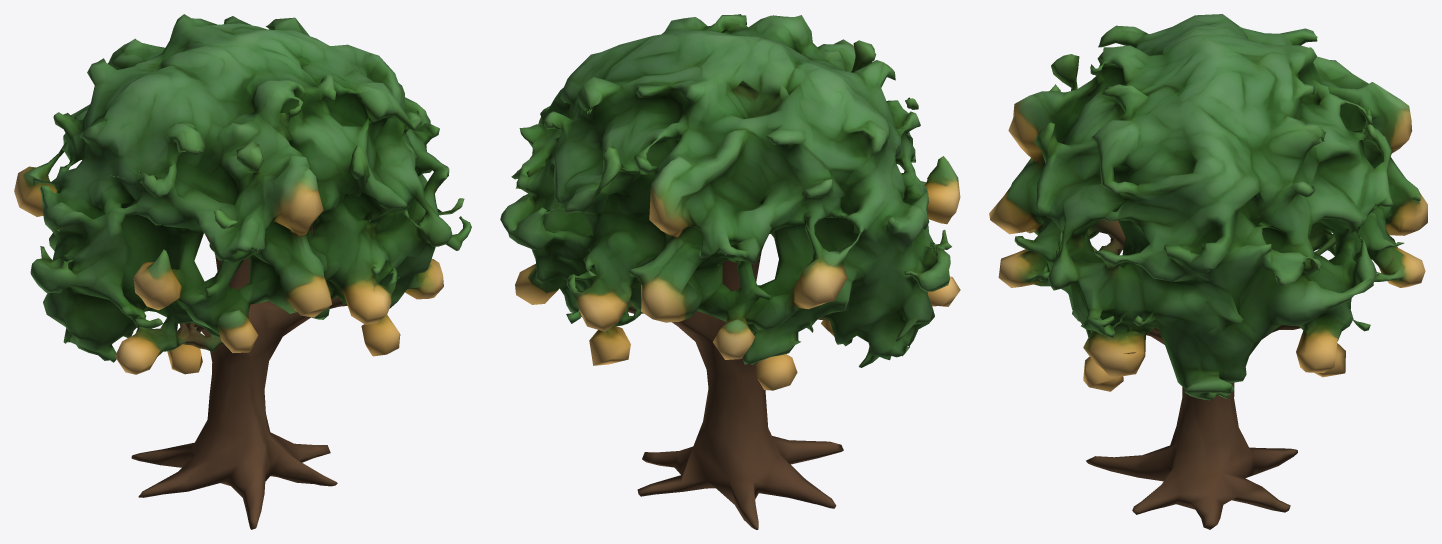
The model's file is orchard_tree.glb.
The picture shows the model from 3 angles, left to right: view 1: azimuth 30°, elevation 25°; view 2: azimuth 150°, elevation 25°; view 3: azimuth 270°, elevation 25°; orthographic projection. The views are drawn at different scales.
Parts seen in each view (by area): view 1: model; view 2: model; view 3: model.
Part boxes in pixels (x1,y1,x2,y2): model: [14, 14, 471, 529]; model: [500, 14, 960, 529]; model: [989, 14, 1427, 529].
Size of the model in its own units: 1.67 by 1.77 by 1.57.
Materials: 1 (1 with a texture image).
